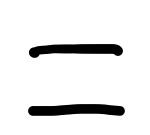eqv: (29, 45, 125, 116)
